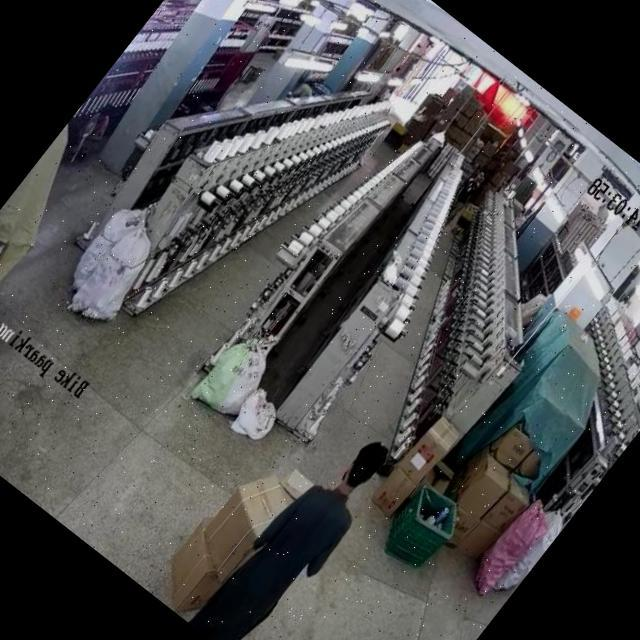person: (180, 412, 401, 640), (444, 165, 488, 218)
